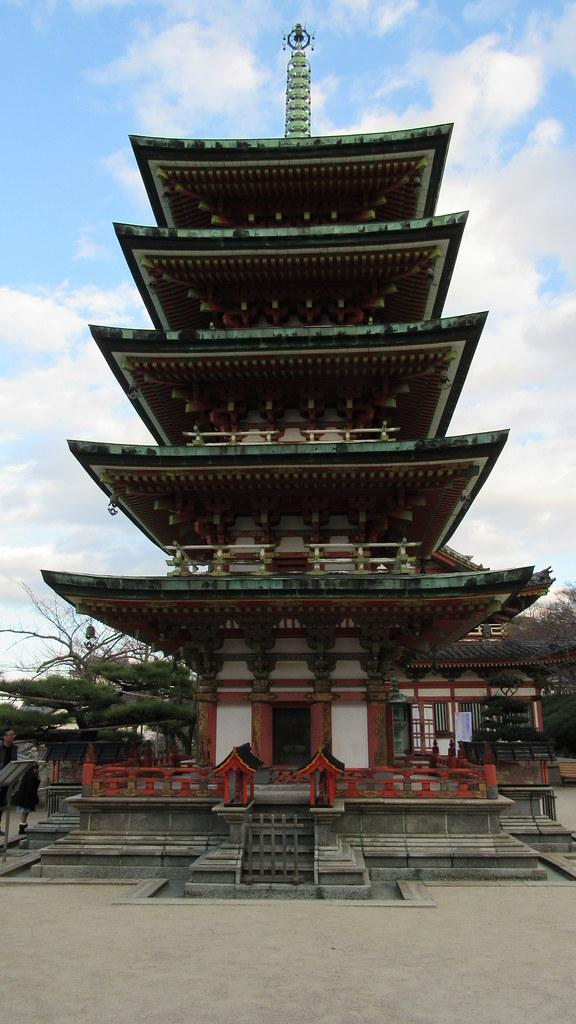temple: (27, 20, 574, 894)
